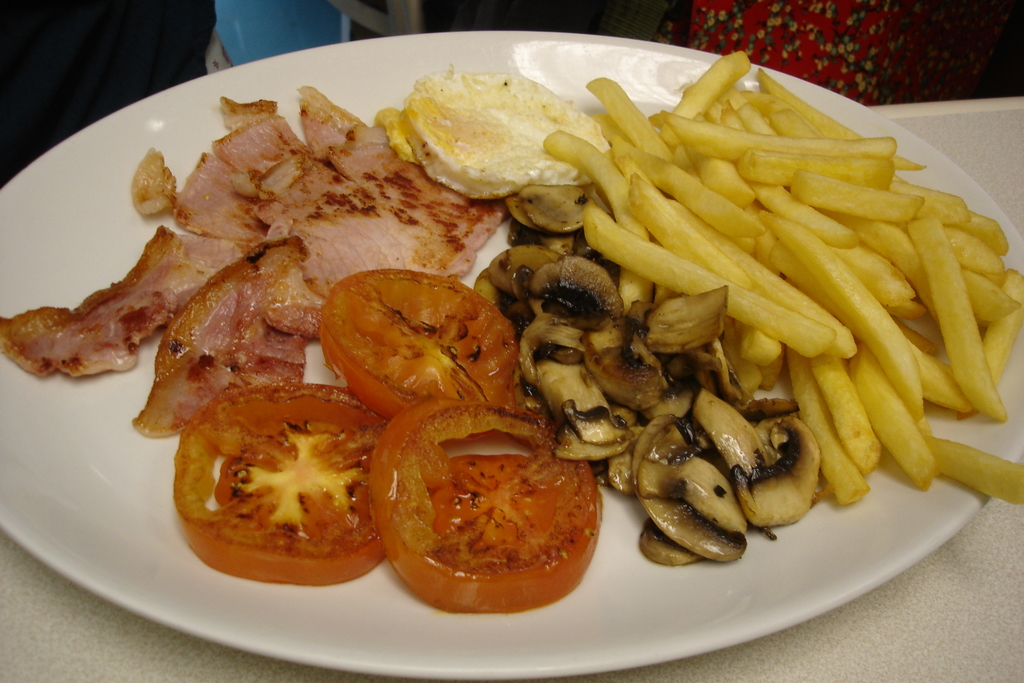French fries: (550, 68, 996, 495)
